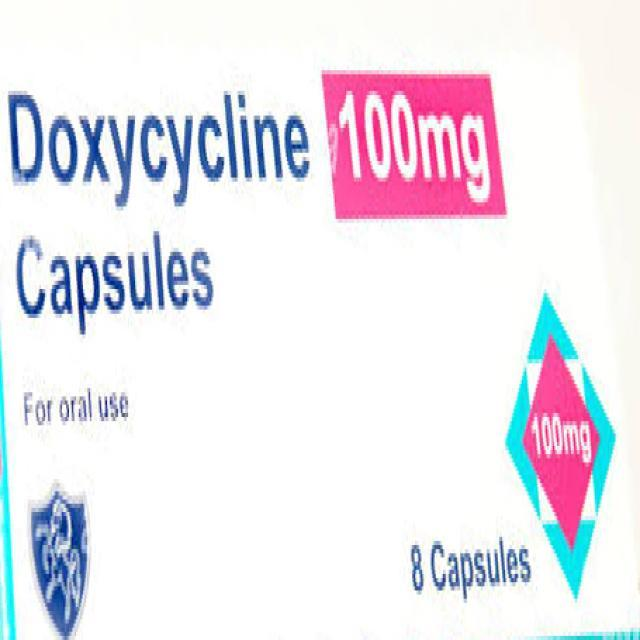drug-name: (6, 78, 312, 209)
